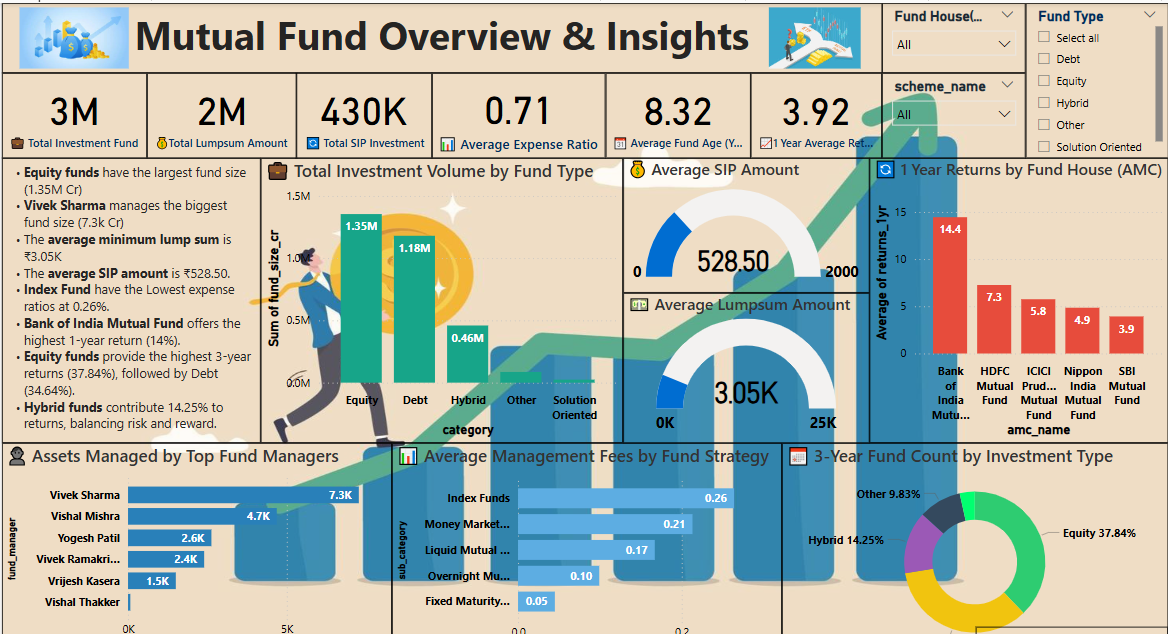

Layout of this report page (visuals, bound fields, positions):
{"tool":"powerbi","page":{"name":"Page 1","canvas":[1280,720],"ordinal":0},"visuals":[{"type":"donutChart","title":"📅 3-Year Fund Count by Investment Type","fields":{"Category":["Mutual Fund.category"],"Y":["Mutual Fund.returns_3yr"]},"box":[856.3,483,424,237.4],"z":0},{"type":"barChart","title":"📊 Average Management Fees by Fund Strategy","fields":{"Category":["Mutual Fund.sub_category"],"Y":["Mutual Fund.expense_ratio"]},"box":[428.1,483,428.1,237.4],"z":1000},{"type":"barChart","title":"👤 Assets Managed by Top Fund Managers","fields":{"Category":["Mutual Fund.fund_manager"],"Y":["Mutual Fund.fund_size_cr"]},"box":[0,483,428.1,237.4],"z":2000},{"type":"lineStackedColumnComboChart","title":"💼 Total Investment Volume by Fund Type","fields":{"Category":["Mutual Fund.category"],"Y":["Mutual Fund.fund_size_cr"]},"box":[284,170.2,397.9,312.9],"z":3000},{"type":"gauge","title":"💵 Average Lumpsum Amount","fields":{"Y":["Mutual Fund.min_lumpsum"],"MinValue":["Sum(Mutual Fund.min_lumpsum)1"],"MaxValue":["Sum(Mutual Fund.min_lumpsum)2"]},"box":[682,318.4,270.3,164.7],"z":4000},{"type":"gauge","title":"💰 Average SIP Amount","fields":{"Y":["Mutual Fund.min_sip"],"MinValue":["Sum(Mutual Fund.min_sip)1"],"MaxValue":["Sum(Mutual Fund.min_sip)2"]},"box":[682,170.2,270.3,148.2],"z":5000},{"type":"columnChart","title":"🔄 1 Year Returns by Fund House (AMC)","fields":{"Category":["Mutual Fund.amc_name"],"Y":["Mutual Fund.returns_1yr"]},"box":[952.3,170.2,328,312.9],"z":6000},{"type":"slicer","fields":{"Values":["Mutual Fund.category"]},"box":[1123.8,0,156.4,170.2],"z":7000},{"type":"slicer","fields":{"Values":["Mutual Fund.amc_name"]},"box":[966,0,157.8,76.8],"z":8000},{"type":"slicer","fields":{"Values":["Mutual Fund.scheme_name"]},"box":[966,76.8,157.8,93.3],"z":9000},{"type":"card","fields":{"Values":["Mutual Fund.fund_size_cr"]},"box":[0,76.8,159.2,93.3],"z":10000},{"type":"card","fields":{"Values":["Mutual Fund.min_lumpsum"]},"box":[159.2,76.8,164.7,93.3],"z":11000},{"type":"card","fields":{"Values":["Mutual Fund.min_sip"]},"box":[322.5,76.8,149.6,93.3],"z":12000},{"type":"card","fields":{"Values":["Mutual Fund.expense_ratio"]},"box":[472,76.8,190.7,93.3],"z":13000},{"type":"card","fields":{"Values":["Mutual Fund.fund_age_yr"]},"box":[662.8,76.8,159.2,93.3],"z":14000},{"type":"card","fields":{"Values":["Mutual Fund.returns_1yr"]},"box":[822,76.8,144.1,93.3],"z":15000},{"type":"textbox","box":[0,0,966,76.8],"z":16000},{"type":"textbox","box":[0,170.2,284,312.9],"z":17000},{"type":"image","box":[0,0,159.2,76.8],"z":18000},{"type":"image","box":[817.8,0,148.2,76.8],"z":19000},{"type":"textbox","box":[1069,684.7,211.3,35.7],"z":20000}]}

Visuals, with their boxes in screenshot pixels (x1, y1, x2, y2):
"📅 3-Year Fund Count by Investment Type" donutChart: bbox=(769, 434, 1150, 633)
"📊 Average Management Fees by Fund Strategy" barChart: bbox=(385, 434, 769, 633)
"👤 Assets Managed by Top Fund Managers" barChart: bbox=(0, 434, 385, 633)
"💼 Total Investment Volume by Fund Type" lineStackedColumnComboChart: bbox=(255, 153, 613, 434)
"💵 Average Lumpsum Amount" gauge: bbox=(613, 286, 856, 434)
"💰 Average SIP Amount" gauge: bbox=(613, 153, 856, 286)
"🔄 1 Year Returns by Fund House (AMC)" columnChart: bbox=(856, 153, 1150, 434)
slicer - Mutual Fund.category: bbox=(1010, 0, 1150, 153)
slicer - Mutual Fund.amc_name: bbox=(868, 0, 1010, 69)
slicer - Mutual Fund.scheme_name: bbox=(868, 69, 1010, 153)
card - Mutual Fund.fund_size_cr: bbox=(0, 69, 143, 153)
card - Mutual Fund.min_lumpsum: bbox=(143, 69, 291, 153)
card - Mutual Fund.min_sip: bbox=(290, 69, 424, 153)
card - Mutual Fund.expense_ratio: bbox=(424, 69, 595, 153)
card - Mutual Fund.fund_age_yr: bbox=(595, 69, 738, 153)
card - Mutual Fund.returns_1yr: bbox=(738, 69, 868, 153)
textbox: bbox=(0, 0, 868, 69)
textbox: bbox=(0, 153, 255, 434)
image: bbox=(0, 0, 143, 69)
image: bbox=(735, 0, 868, 69)
textbox: bbox=(960, 615, 1150, 633)
